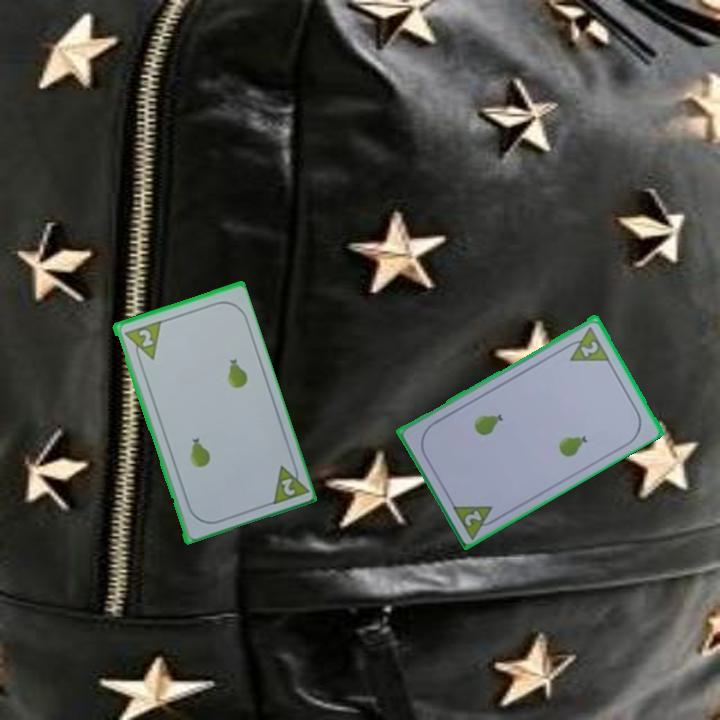2p: (266, 457, 310, 508), (449, 500, 503, 541), (560, 322, 612, 364), (134, 325, 156, 350)
